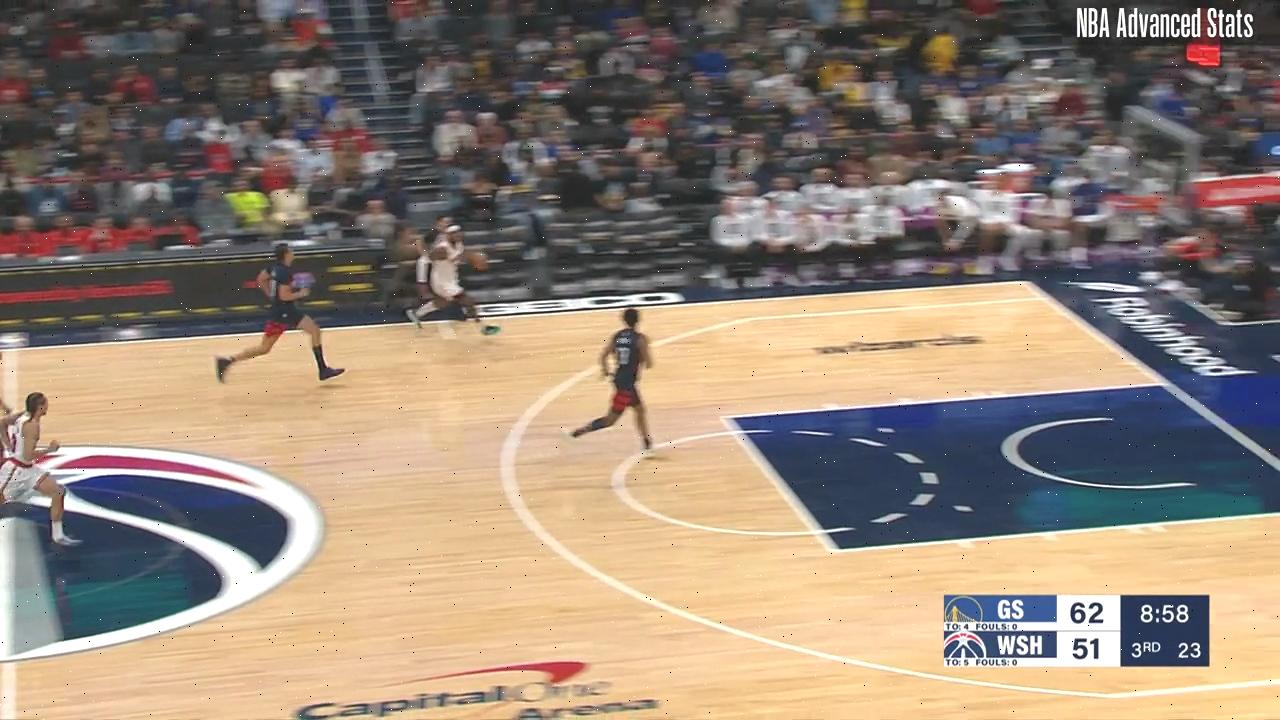basketball: (469, 250, 490, 269)
